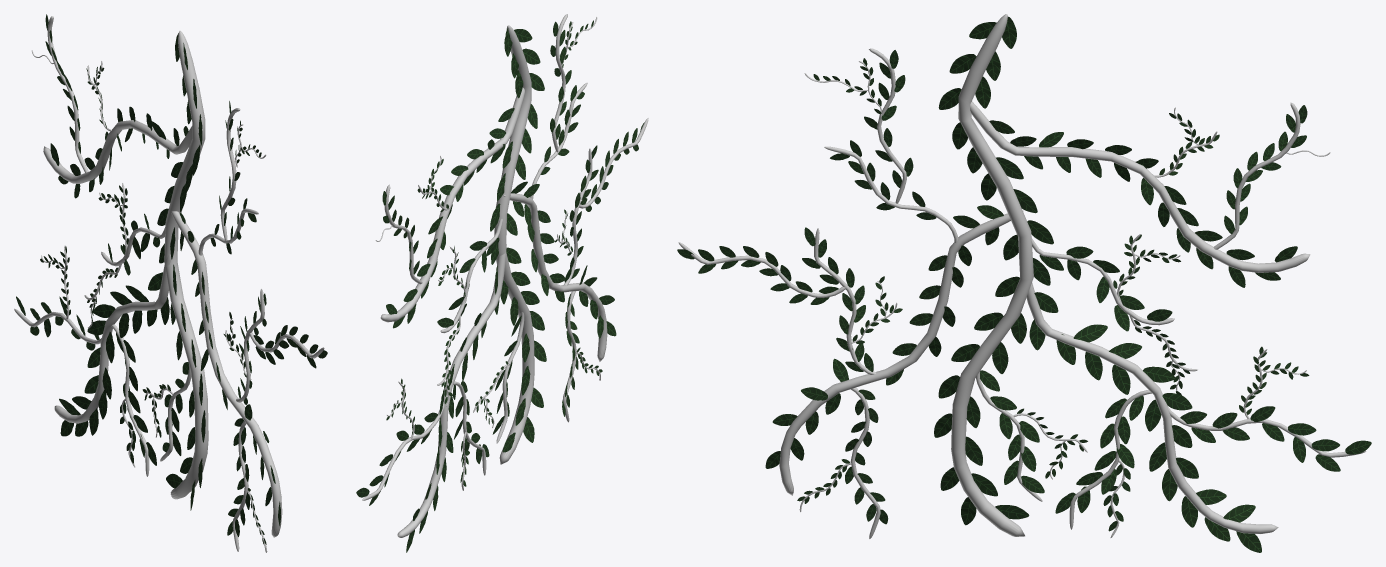
File: vines.fbx
The picture shows the model from 3 angles, left to right: view 1: azimuth 30°, elevation 25°; view 2: azimuth 150°, elevation 25°; view 3: azimuth 270°, elevation 25°; orthographic projection. The views are drawn at different scales.
Visible parts, largest first — view 1: vines; view 2: vines; view 3: vines.
Boxes of the visible parts, <box> form: vines: <box>14,16,324,552</box>; vines: <box>362,14,648,537</box>; vines: <box>678,14,1366,538</box>.
Size of the model in its own units: 42.3 by 955 by 1111.
